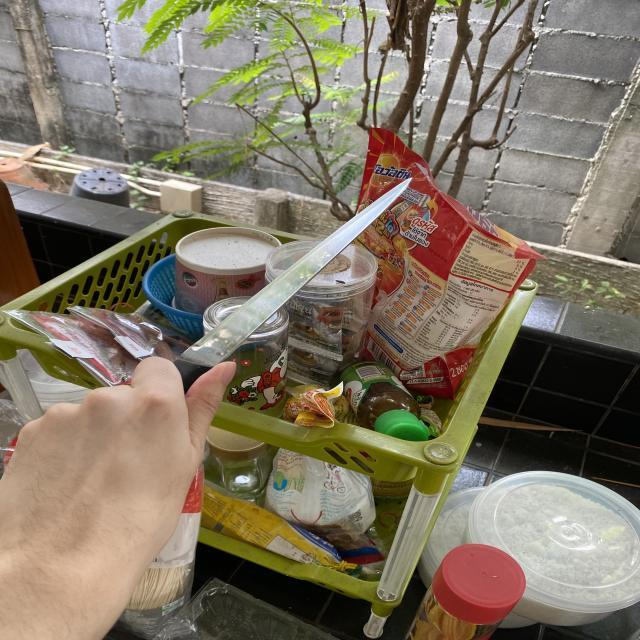faca: (0, 165, 416, 597)
